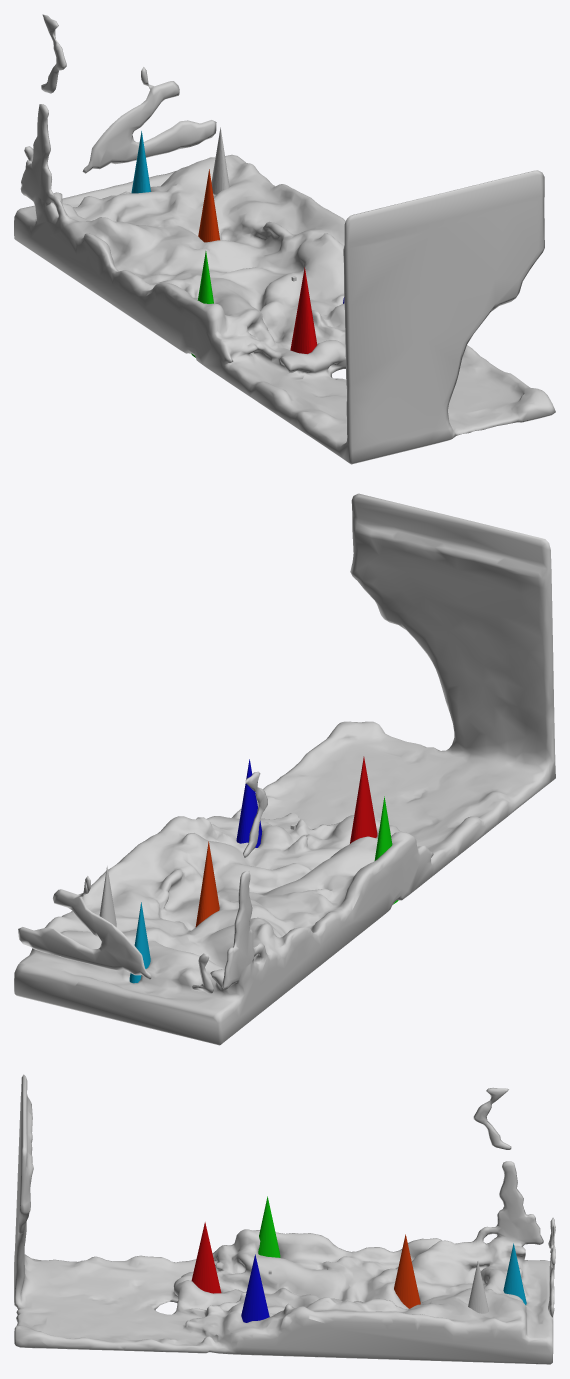
3 renders of one model, top to bottom at view 1: azimuth 30°, elevation 25°; view 2: azimuth 150°, elevation 25°; view 3: azimuth 270°, elevation 25°, orthographic. The views are drawn at different scales.
Parts seen in each view (by area): view 1: Liquid_Domain, 円錐.001, 円錐.004, 円錐, 円錐.005; view 2: Liquid_Domain, 円錐.001, 円錐.004, 円錐.002; view 3: Liquid_Domain, 円錐.001, 円錐.004, 円錐.002, 円錐.003, 円錐.005, 円錐.
Boxes of the visible parts, x1,y1,x2,y2 form: Liquid_Domain: (14, 14, 555, 464); 円錐.001: (290, 267, 317, 353); 円錐.004: (198, 169, 219, 242); 円錐: (211, 127, 229, 194); 円錐.005: (131, 131, 150, 193); Liquid_Domain: (14, 493, 555, 1045); 円錐.001: (350, 756, 377, 843); 円錐.004: (195, 841, 219, 927); 円錐.002: (236, 759, 262, 847); Liquid_Domain: (14, 1074, 555, 1364); 円錐.001: (191, 1222, 221, 1293); 円錐.004: (394, 1234, 420, 1308); 円錐.002: (241, 1254, 269, 1322); 円錐.003: (258, 1196, 280, 1257); 円錐.005: (503, 1243, 526, 1304); 円錐: (468, 1261, 488, 1313).
Bounding box in the file's own units: 129 × 158 × 363.
